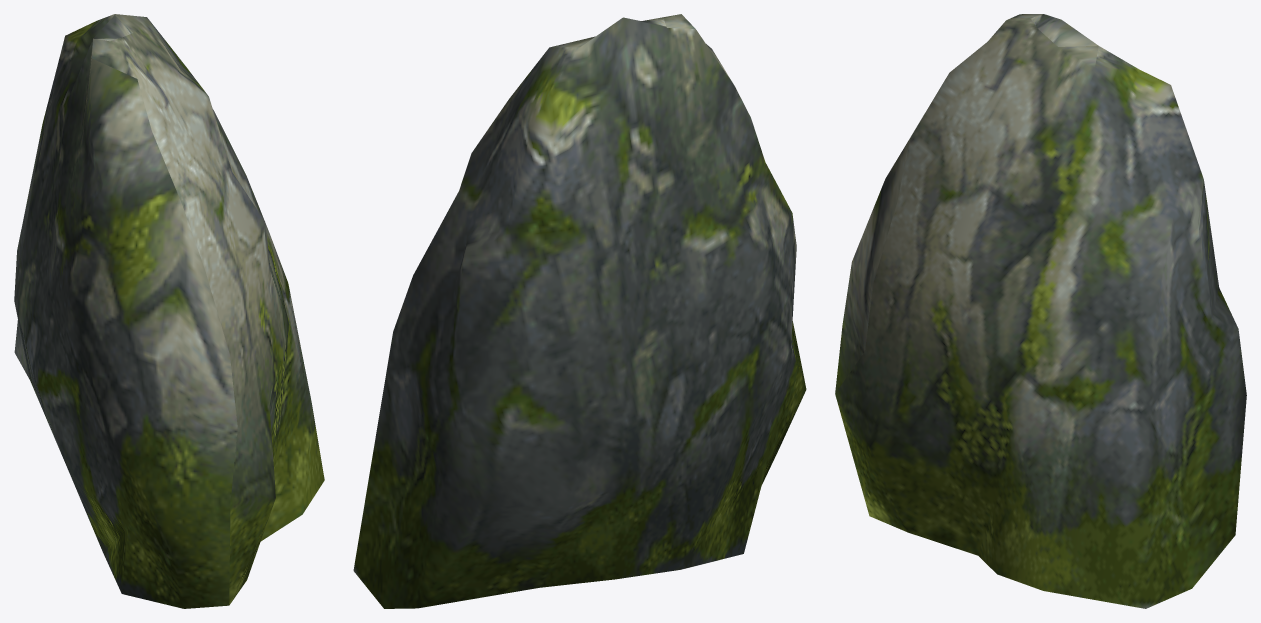
The model's file is yj_shitou_1.FBX.
3 views of the same model, side by side, from view 1: azimuth 30°, elevation 25°; view 2: azimuth 150°, elevation 25°; view 3: azimuth 270°, elevation 25° (orthographic). The views are drawn at different scales.
Visible parts, largest first — view 1: yj_shitou_1; view 2: yj_shitou_1; view 3: yj_shitou_1.
Part boxes in pixels (x1,y1,x2,y2): yj_shitou_1: (14, 14, 324, 608); yj_shitou_1: (353, 14, 806, 608); yj_shitou_1: (835, 14, 1246, 608).
Size of the model in its own units: 4306 by 7491 by 5594.
